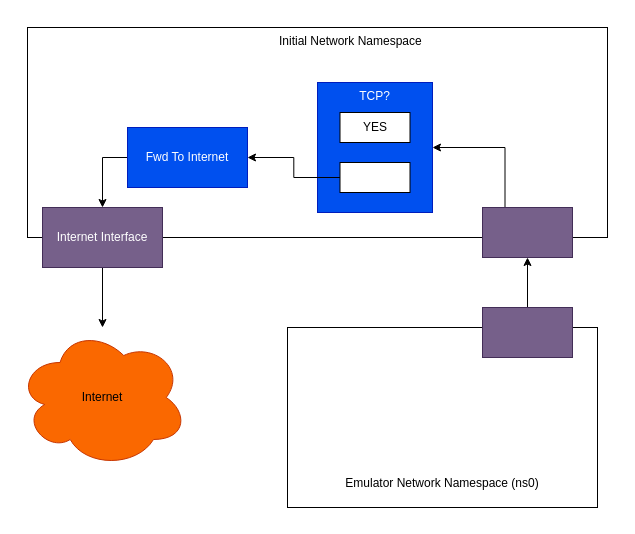
This 635x534 diagram has some shape labels left out. The centre of each missing label's shape, as x and y in pixels:
NO: point (374, 177)
veth0 192.168.123.1: point (527, 232)
veth1 192.168.123.2 default gateway: point (527, 332)
